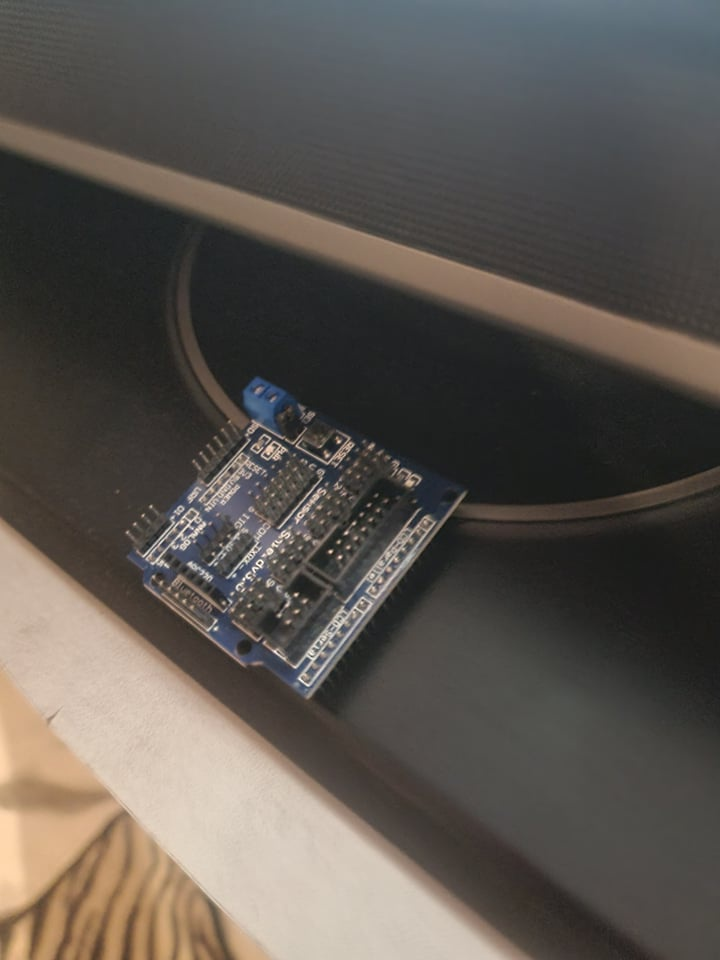5V EXPANSION: (122, 377, 473, 704)
